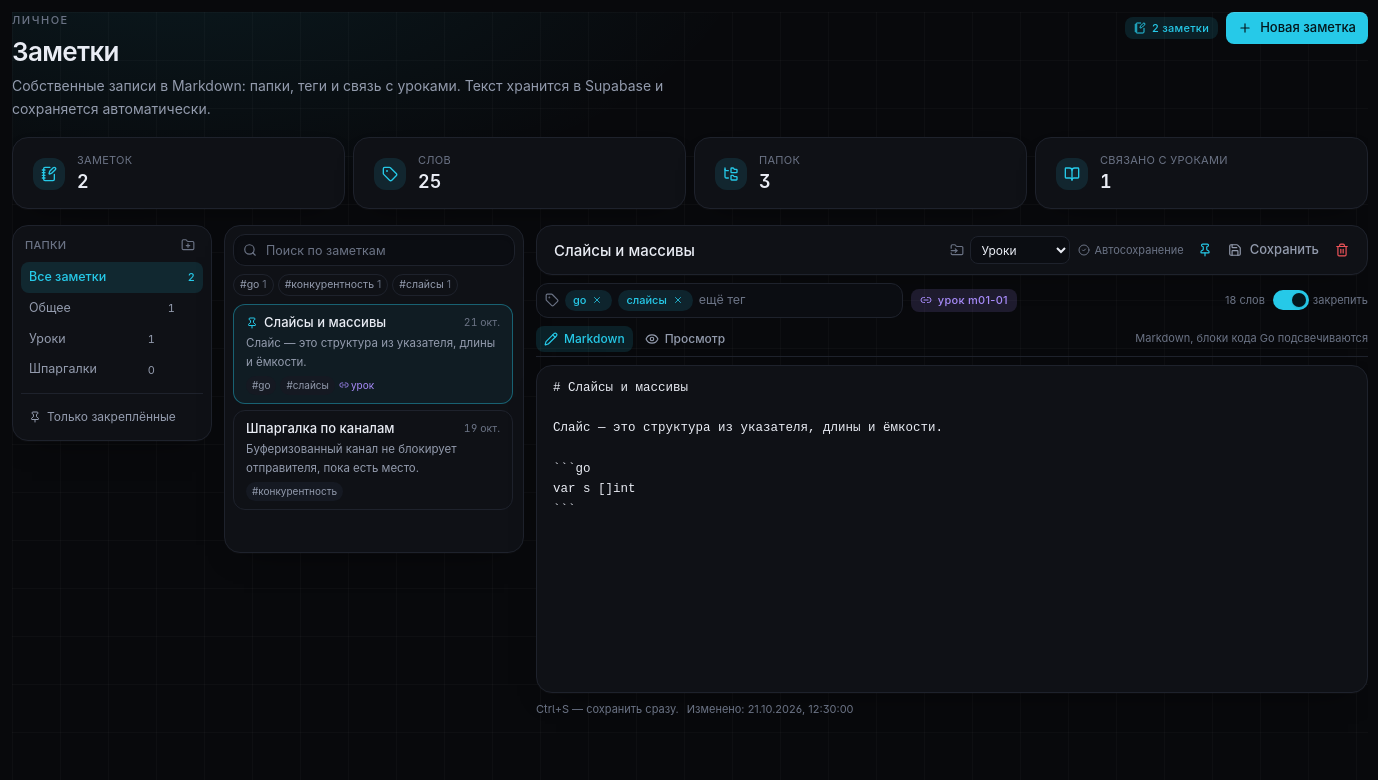
Test: NotesPage › открывает заметку по адресу и показывает Markdown в предпросмотре
Expected: the field named "Заголовок заметки" holds "Слайсы и массивы", [549,234,942,266]
Click the button "Просмотр" at (685, 339), box [637,326,733,352]
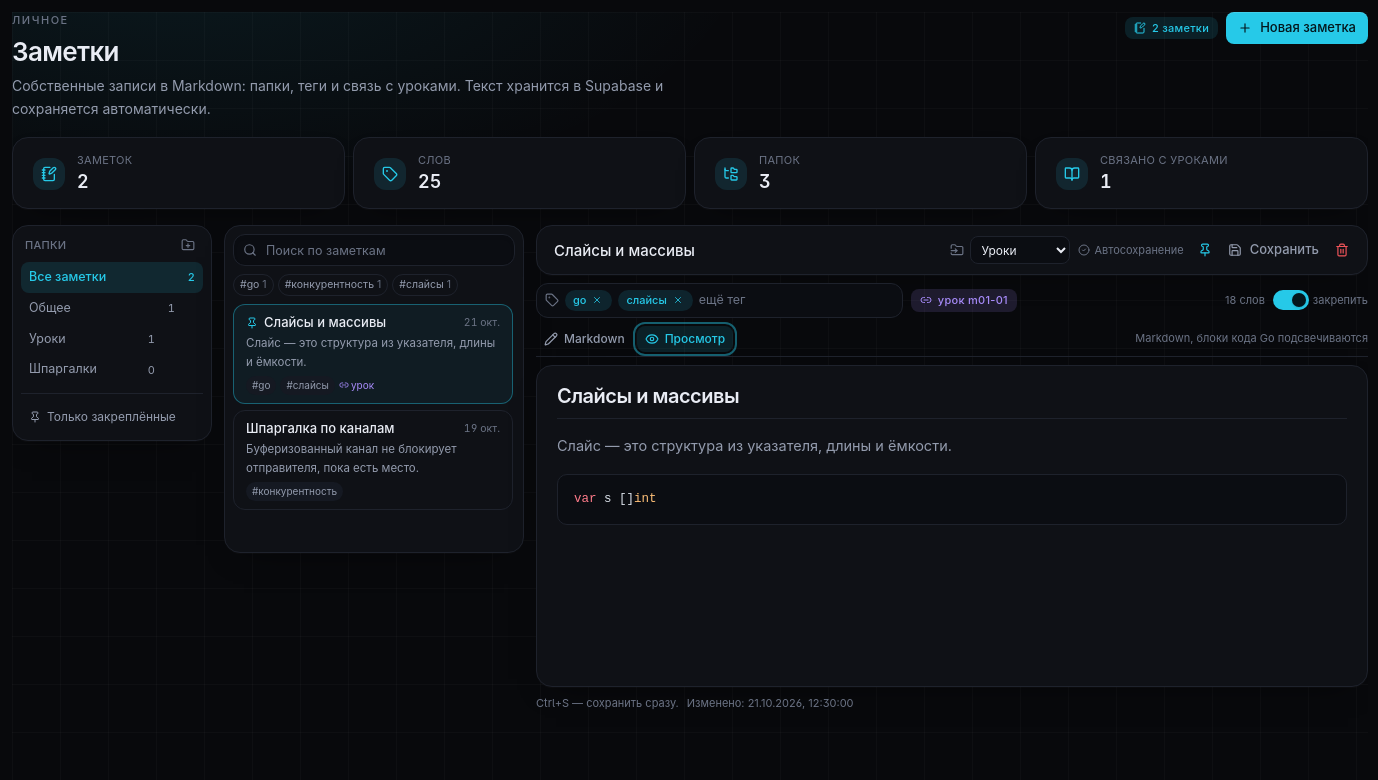
Expected: the heading "Слайсы и массивы" is shown, [557,382,1347,419]
Expected: the text "var s []int" is shown, [574,492,656,506]
